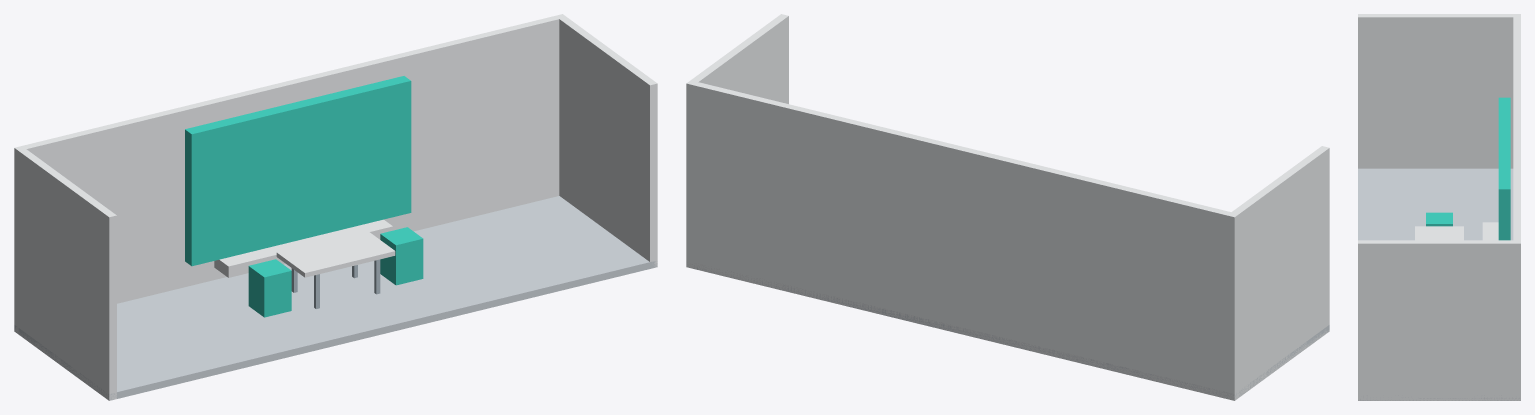
The picture shows the model from 3 angles, left to right: view 1: azimuth 30°, elevation 25°; view 2: azimuth 150°, elevation 25°; view 3: azimuth 270°, elevation 25°; orthographic projection. The views are drawn at different scales.
Visible parts, largest first — view 1: Exhibition Booth Concept; view 2: Exhibition Booth Concept; view 3: Exhibition Booth Concept.
Part boxes in pixels (x1,y1,x2,y2): Exhibition Booth Concept: [14, 14, 657, 400]; Exhibition Booth Concept: [686, 14, 1329, 400]; Exhibition Booth Concept: [1358, 14, 1520, 400].
Bounding box in the file's own units: 10 × 3.2 × 3.
